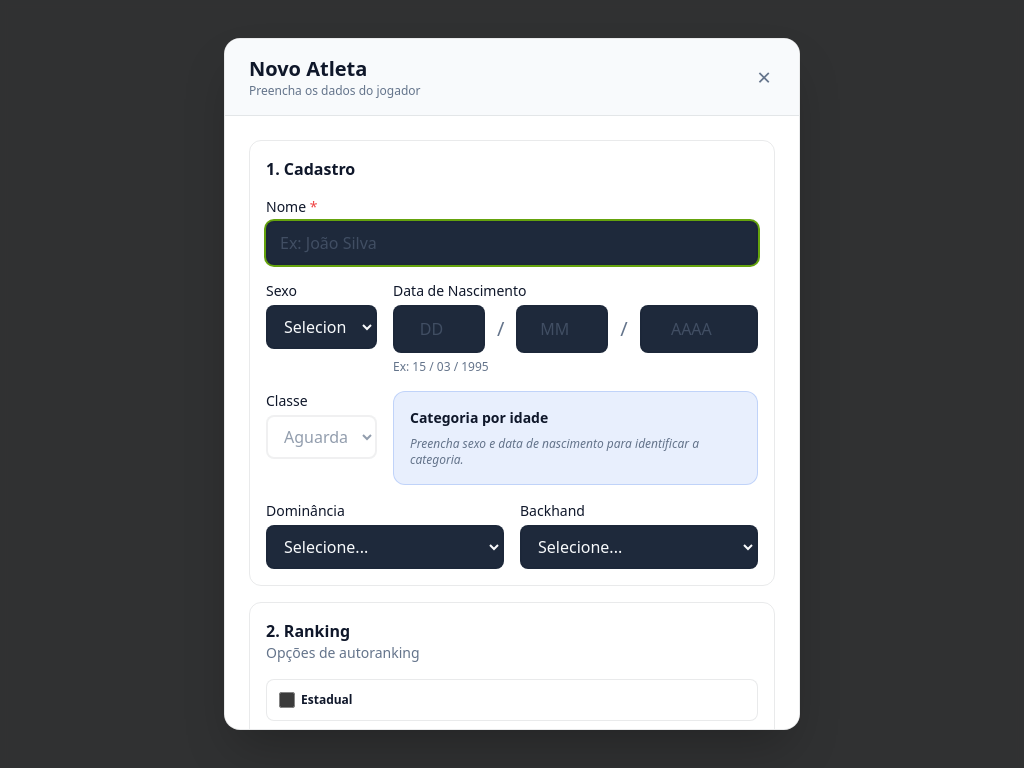
it: NewAthleteModal — Characterization Tests › Form validation & basic fields › Save button enabled when name is filled
Type "João" into the field with placeholder "Ex: João Silva" at (512, 243), box [266,221,758,265]
(page scrolled)
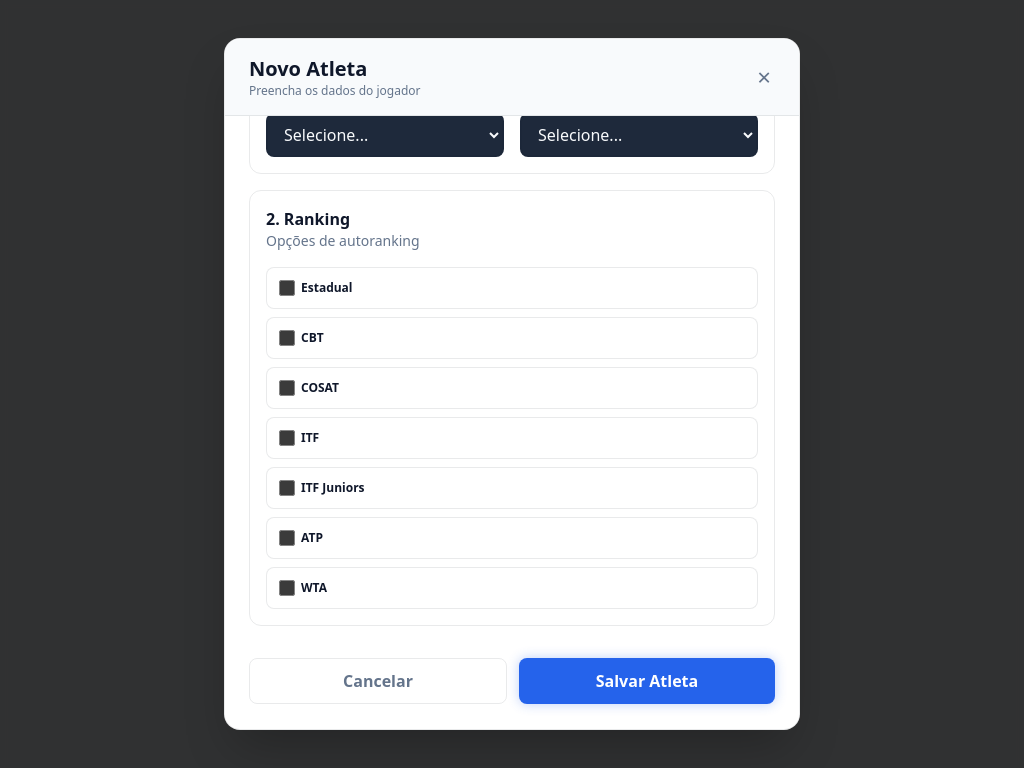
Now the button "Salvar Atleta" is enabled, box [519,658,775,704]
